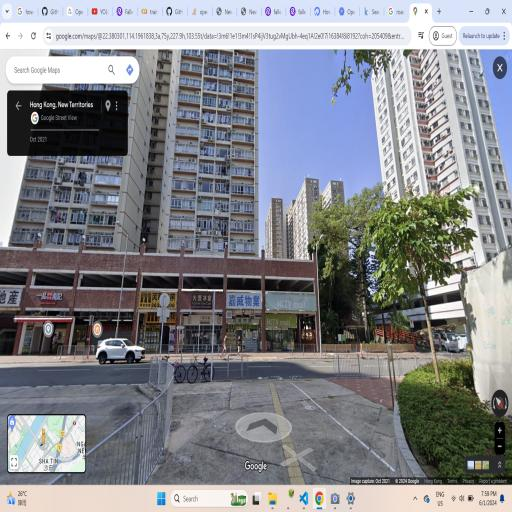Roads: (4, 344, 449, 461)
Trees: (364, 193, 464, 389)
